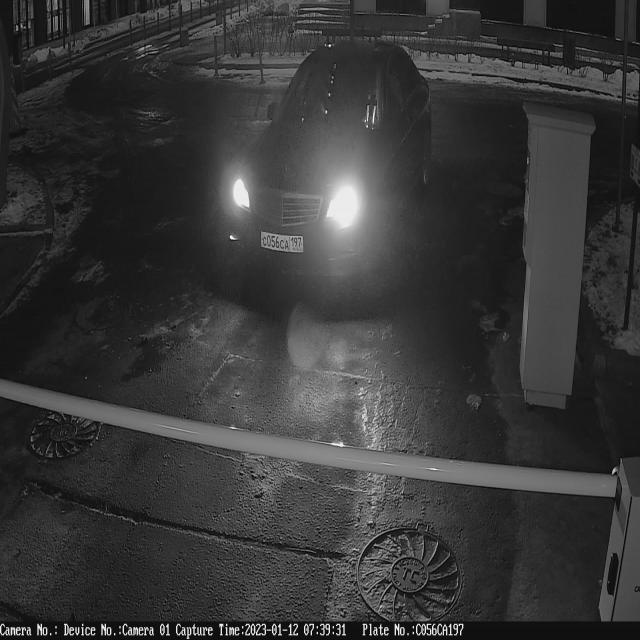car-plate-numbers: (259, 226, 309, 258)
